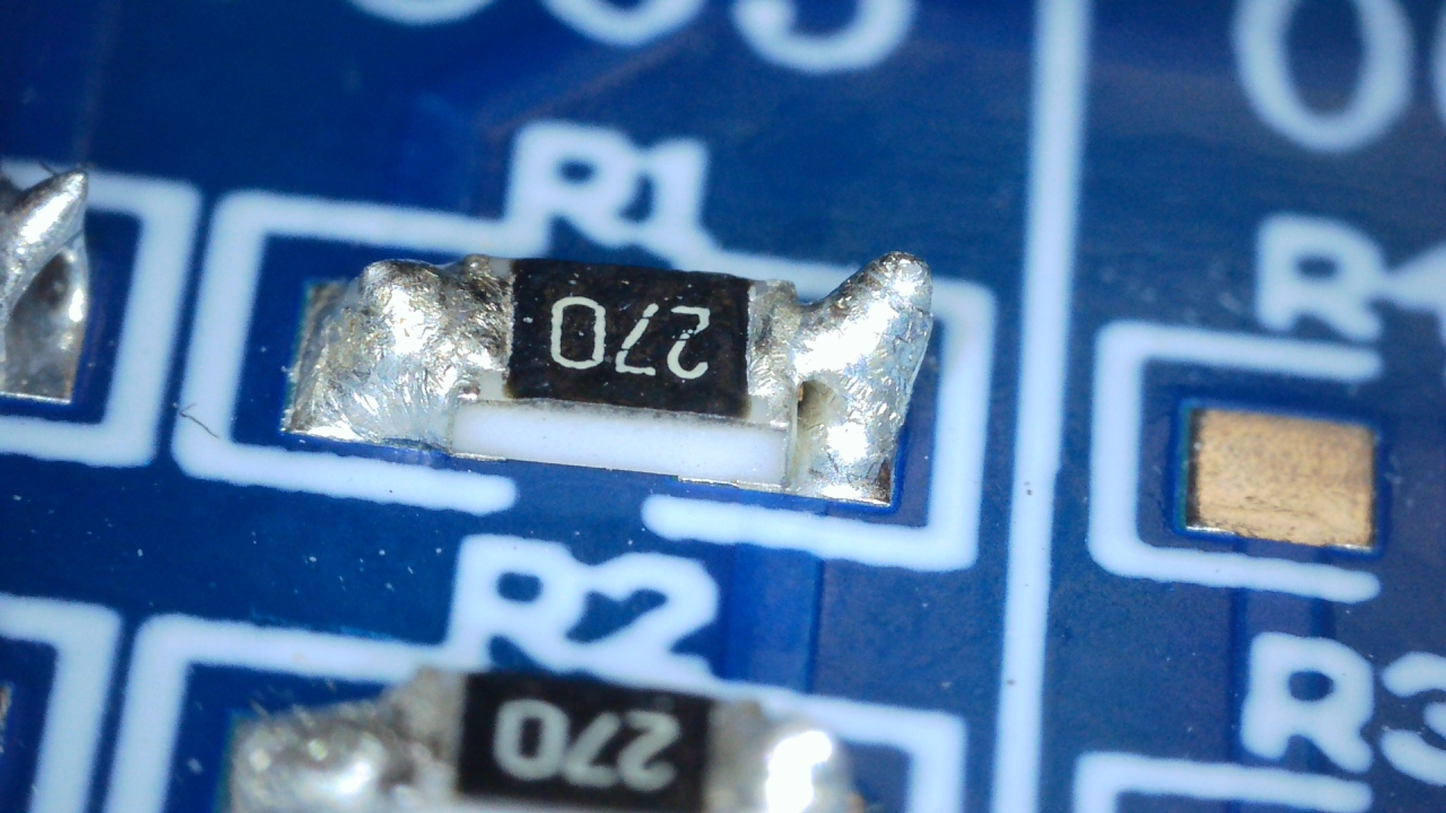NG: (292, 256, 508, 447), (794, 251, 932, 490)
